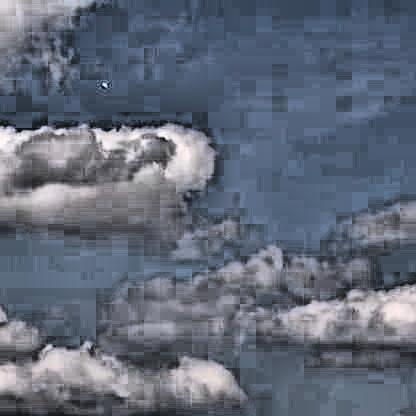golfball: (98, 80, 105, 86)
